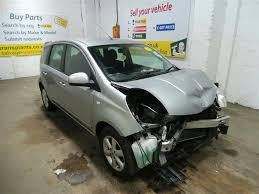Headlight-Damage: (133, 121, 176, 152)
bonnet-dent: (135, 75, 212, 116)
